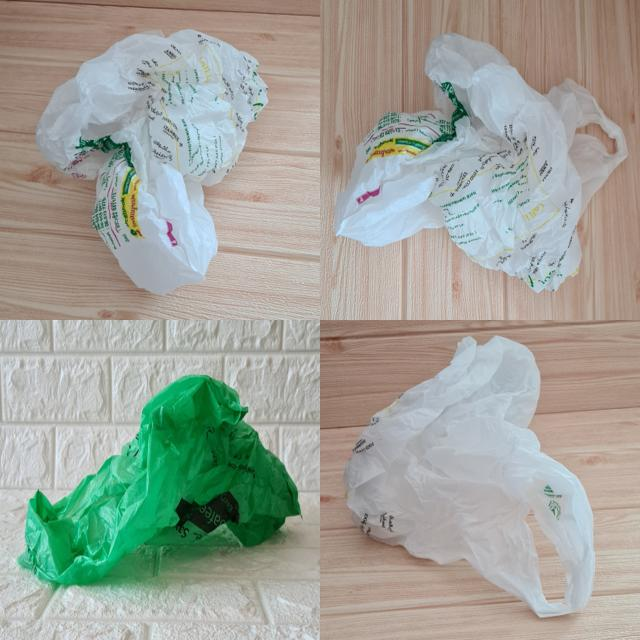Single-layer Plastic: (335, 34, 628, 292), (344, 336, 595, 618), (36, 30, 268, 295), (18, 375, 300, 585)
